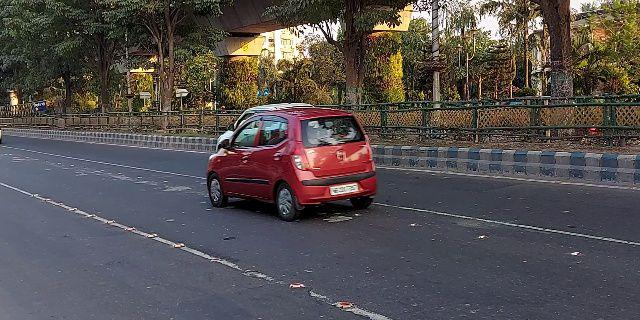Car: (203, 103, 381, 225)
